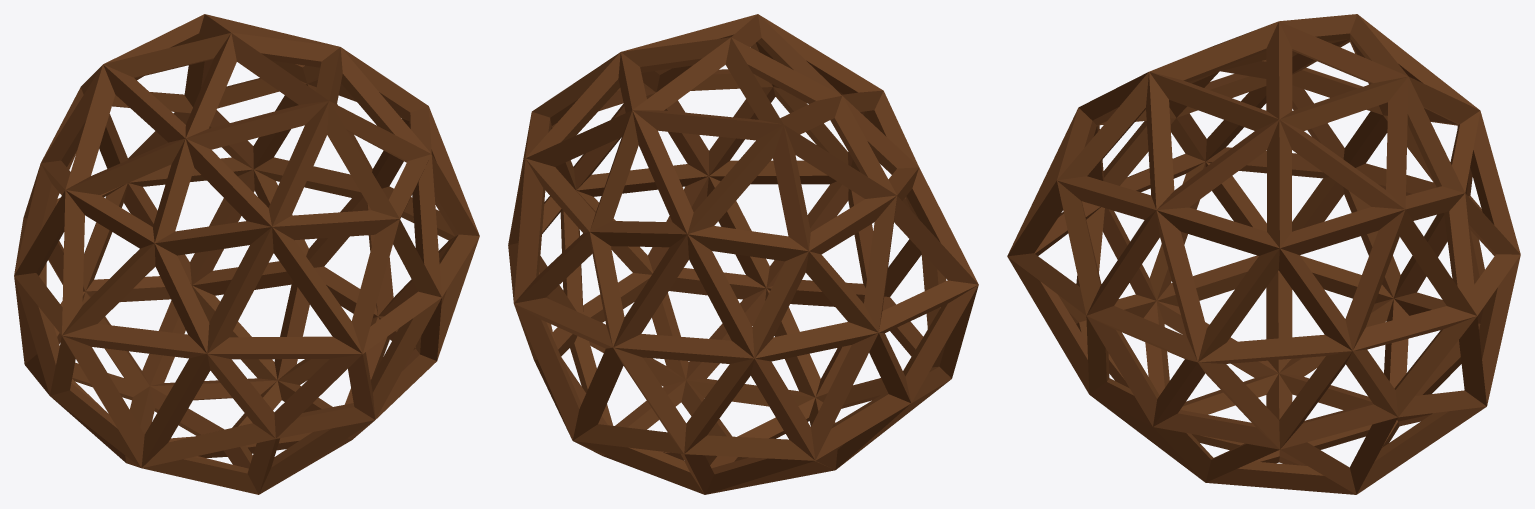
Rendered from tumbleweed_dark.glb.
3 renders of one model, left to right at view 1: azimuth 30°, elevation 25°; view 2: azimuth 150°, elevation 25°; view 3: azimuth 270°, elevation 25°, orthographic. The views are drawn at different scales.
Visible parts, largest first — view 1: tumbleweed; view 2: tumbleweed; view 3: tumbleweed.
Boxes of the visible parts, x1,y1,x2,y2 form: tumbleweed: [14, 14, 479, 494]; tumbleweed: [508, 14, 978, 494]; tumbleweed: [1007, 14, 1520, 494].
Size of the model in its own units: 1.72 by 1.67 by 1.77.
